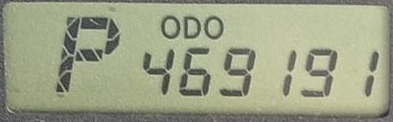1: (278, 47, 297, 97), (361, 49, 379, 99)
4: (141, 47, 175, 96)
6: (179, 47, 212, 97)
9: (299, 47, 338, 98), (217, 46, 255, 97)
X: (53, 14, 120, 95), (203, 15, 224, 40), (160, 15, 180, 39), (183, 15, 201, 40)
